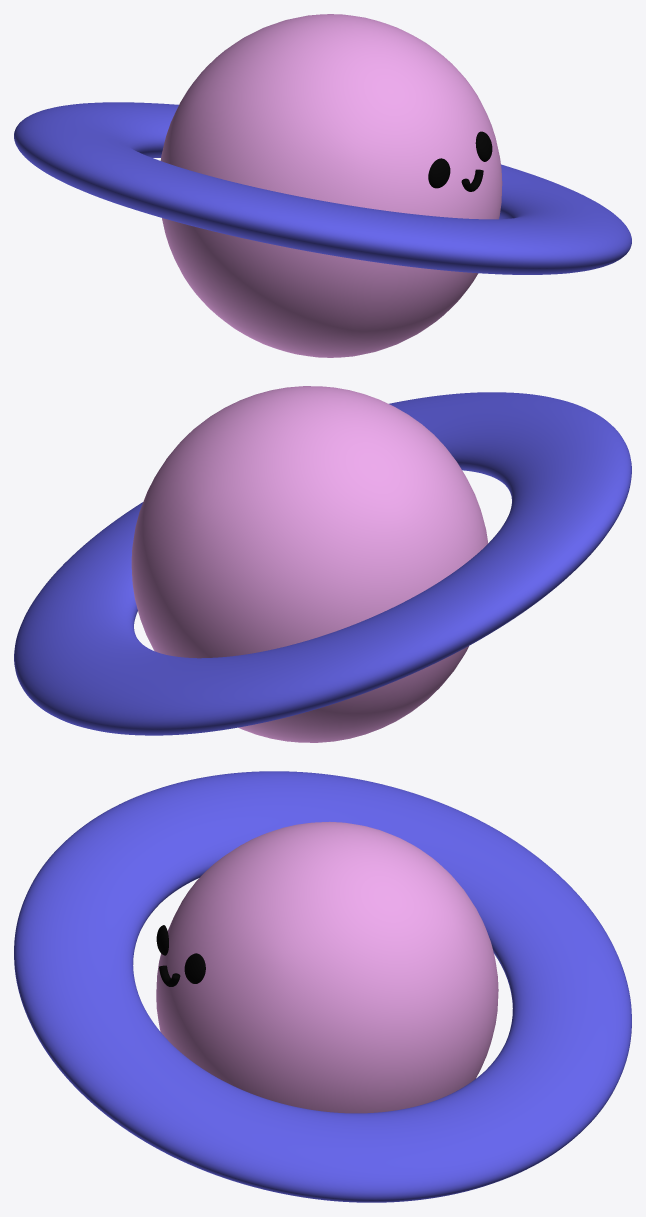
Rendered from planet.gltf.
3 views of the same model, one above another, from view 1: azimuth 30°, elevation 25°; view 2: azimuth 150°, elevation 25°; view 3: azimuth 270°, elevation 25° (orthographic). The views are drawn at different scales.
Visible parts, largest first — view 1: Roundcube, Torus, Roundcube.002; view 2: Roundcube, Torus; view 3: Torus, Roundcube.
Boxes of the visible parts, x1,y1,x2,y2 form: Roundcube: (160,14,502,357); Torus: (14,102,631,274); Roundcube.002: (428,158,450,188); Roundcube: (131,386,488,742); Torus: (14,392,631,735); Torus: (14,771,631,1202); Roundcube: (156,821,498,1113).
Bounding box in the file's own units: 2.5 × 1.43 × 2.58.
